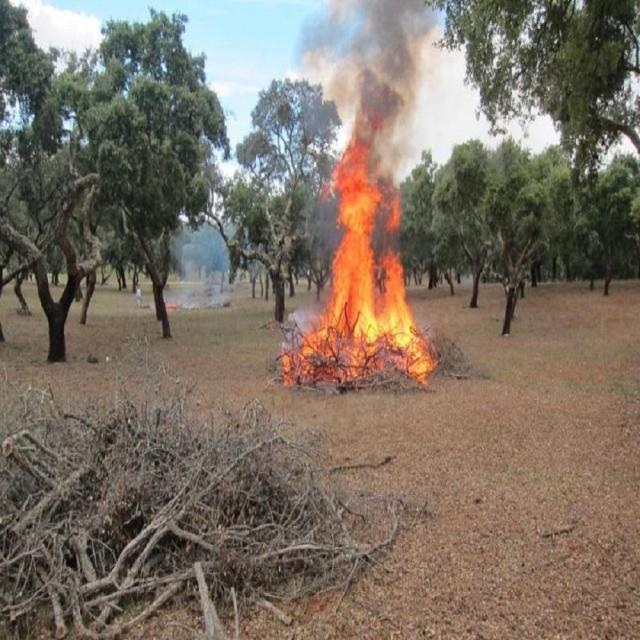Fire: (282, 151, 432, 382)
